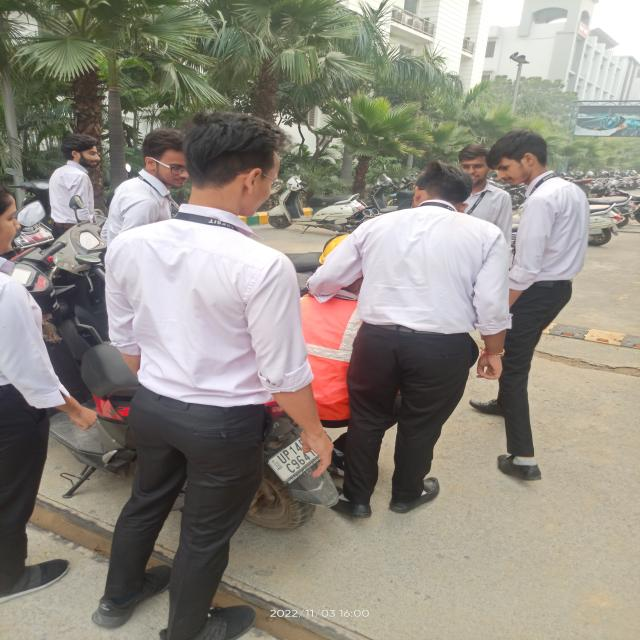unsafe: (99, 109, 316, 640), (312, 160, 508, 518), (481, 131, 588, 479), (40, 132, 109, 269)
